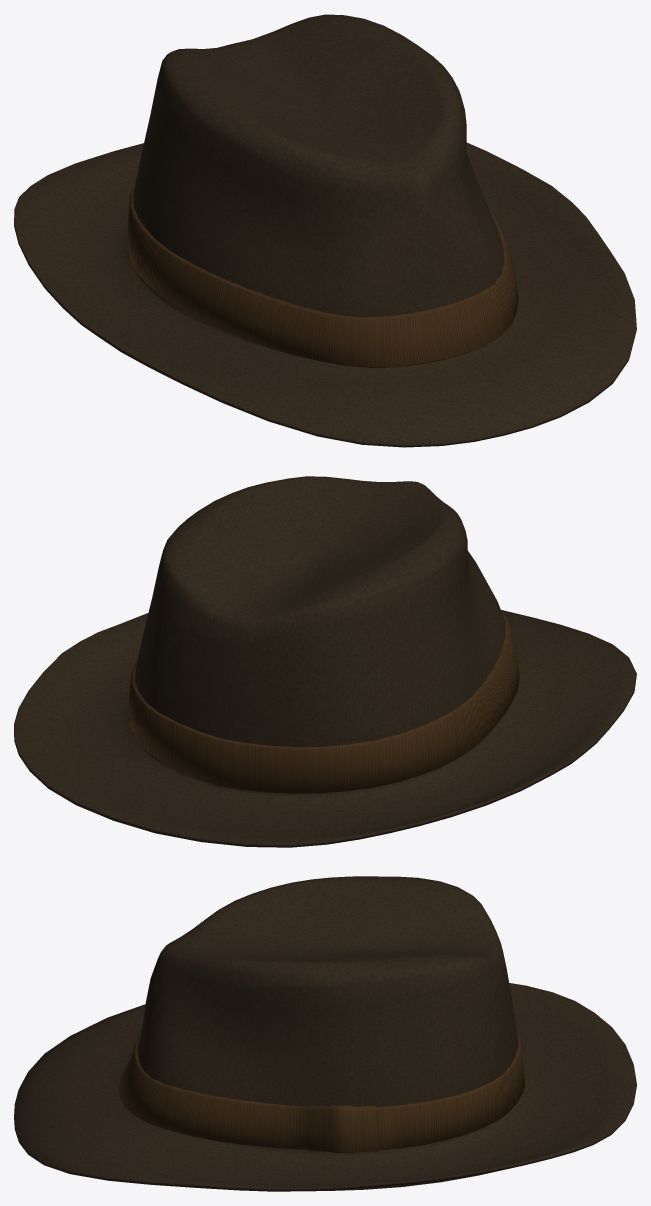
The model's file is trilby_hat.FBX.
The picture shows the model from 3 angles, top to bottom: view 1: azimuth 30°, elevation 25°; view 2: azimuth 150°, elevation 25°; view 3: azimuth 270°, elevation 25°; orthographic projection. The views are drawn at different scales.
Parts seen in each view (by area): view 1: trilby_hat; view 2: trilby_hat; view 3: trilby_hat.
Part boxes in pixels (x1,y1,x2,y2): trilby_hat: [14, 14, 636, 447]; trilby_hat: [14, 476, 636, 847]; trilby_hat: [14, 876, 636, 1191].
Size of the model in its own units: 22.67 by 27.96 by 9.82.
